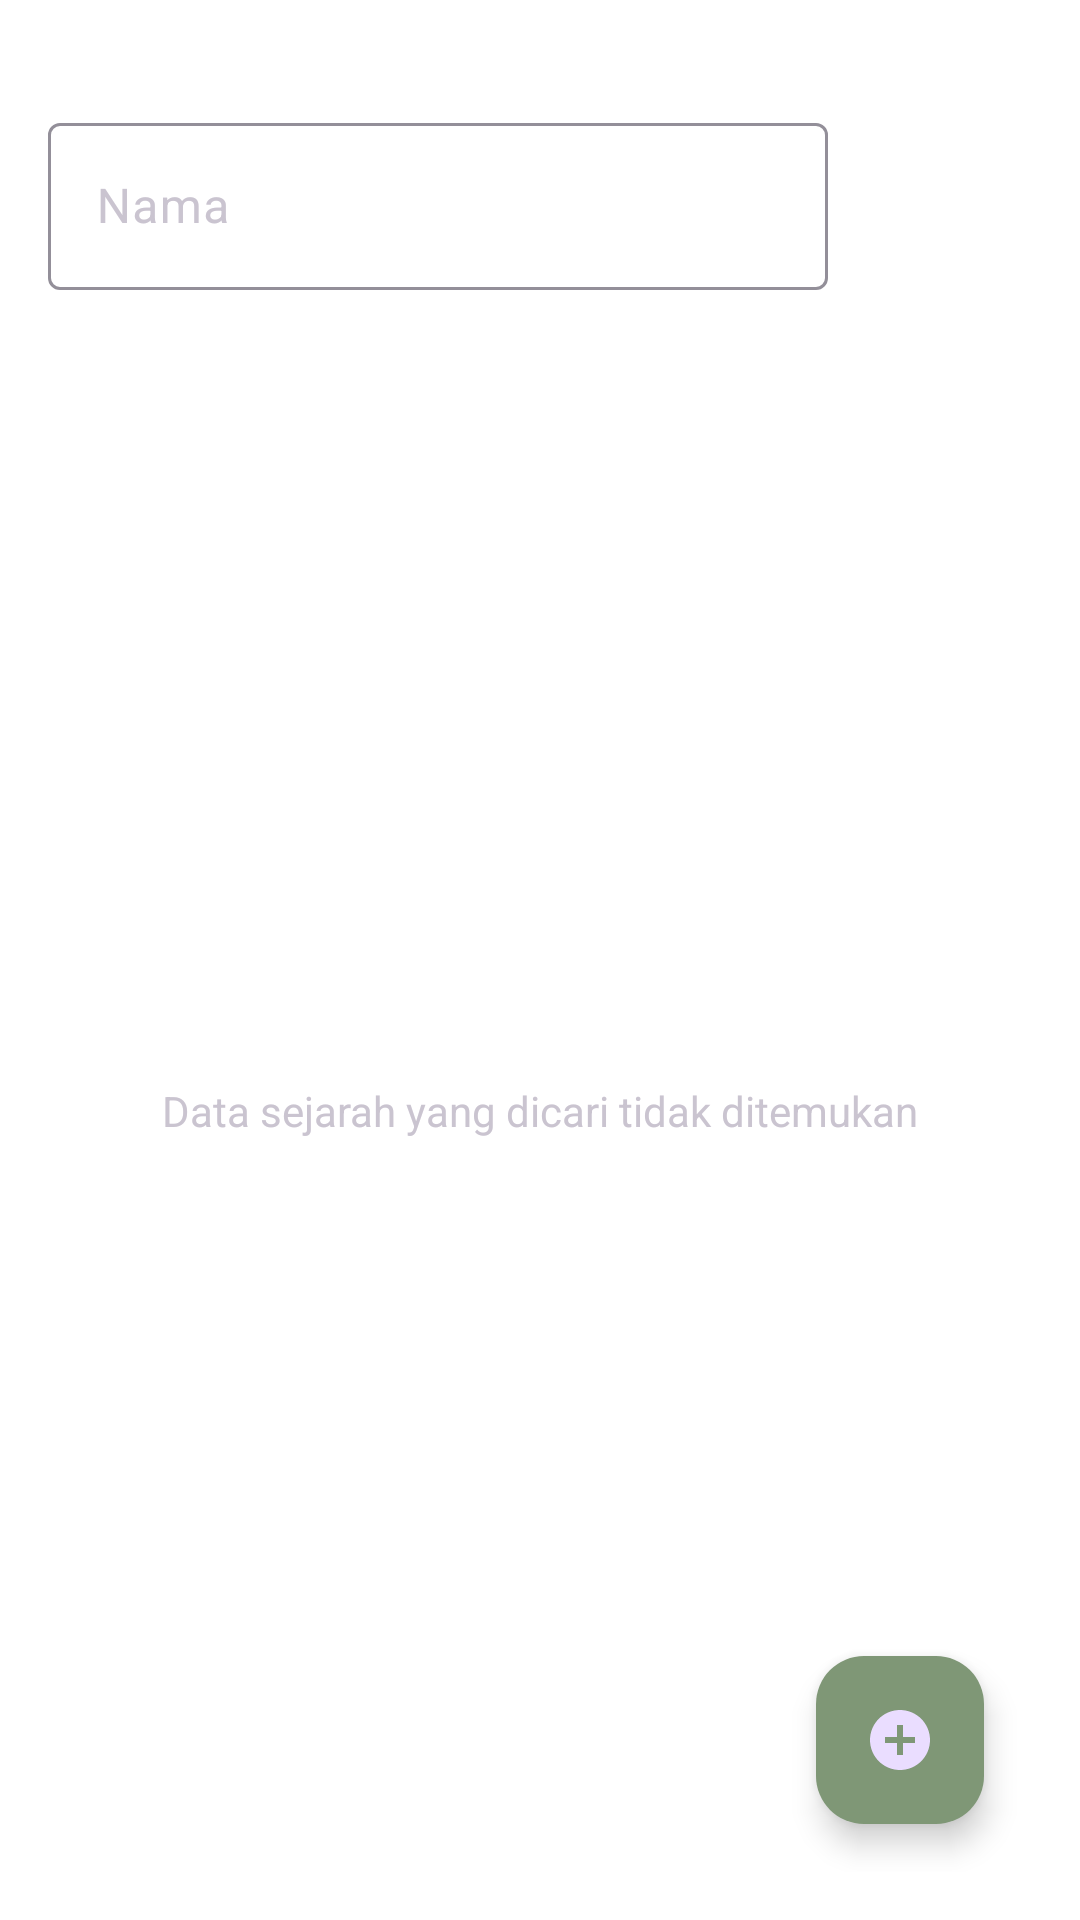

Icon click points for this 1080px×1920px phone screenshot, format point (x, y):
Tambah Sejarah: point (900, 1740)
